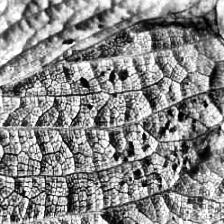Angular Leafspot: (52, 0, 224, 224)
